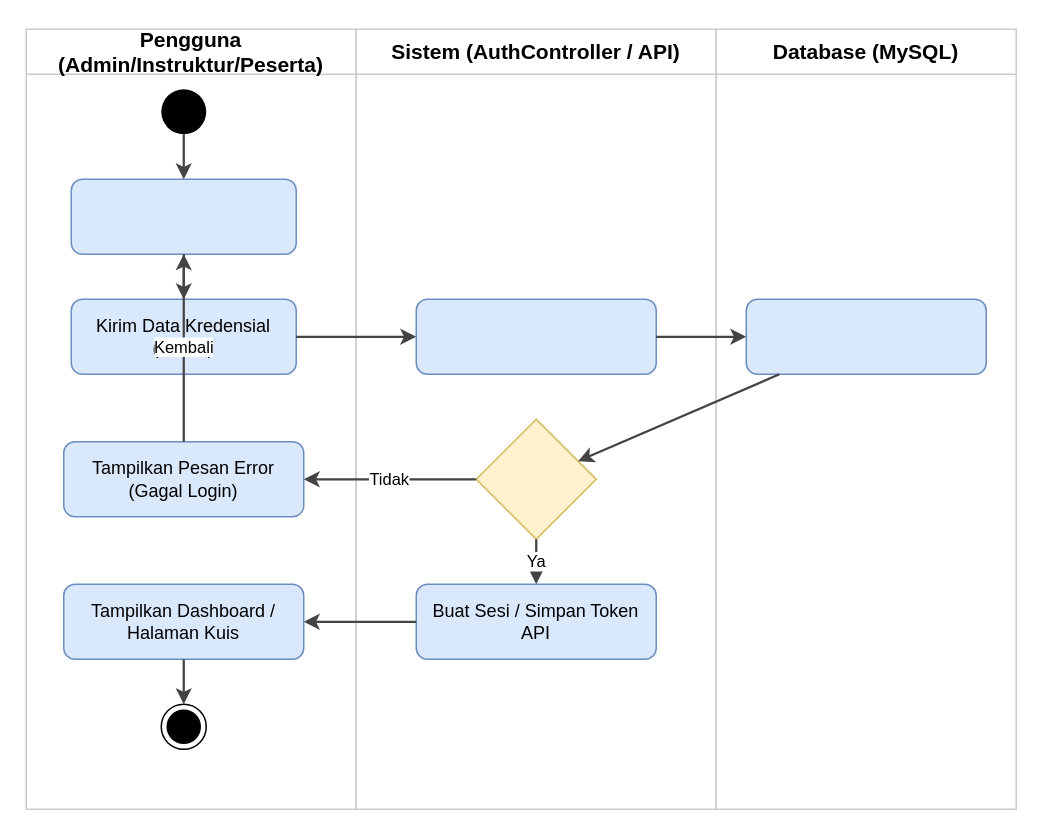
This 1043x836 diagram has some shape labels left out. Each missing label, with the centre of its shape:
"Buka Halaman Login & Isi Username/Password" goes at point (183, 216).
"Kredensial Valid?" goes at point (535, 478).
"Query Data Pengguna / Peserta" goes at point (865, 336).
"Terima Data & Cek Kecocokan" goes at point (535, 336).
